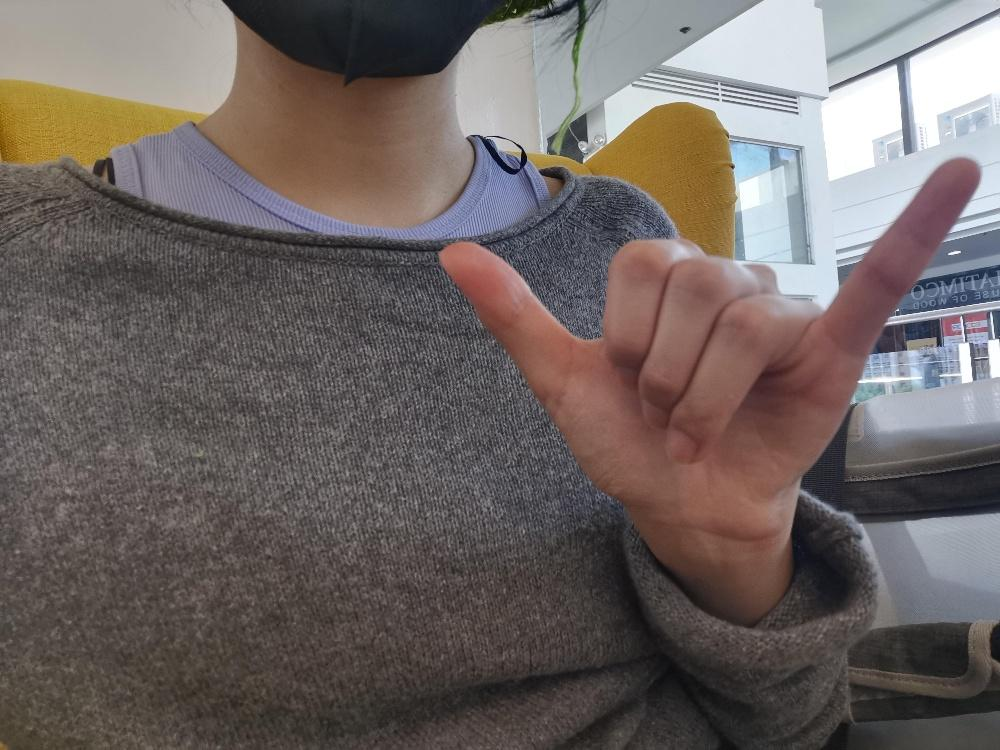y: (434, 152, 981, 539)
